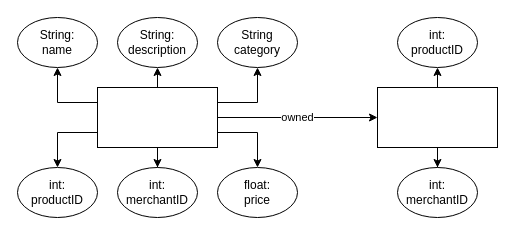
Image size: 515x235. Some labels were removed from this diagram. The shapes that lost their labels are listed below. From the top down, each one's centre as x and y in pixels, then its label:
At point (157, 117): "product".
At point (437, 117): "merchant".
